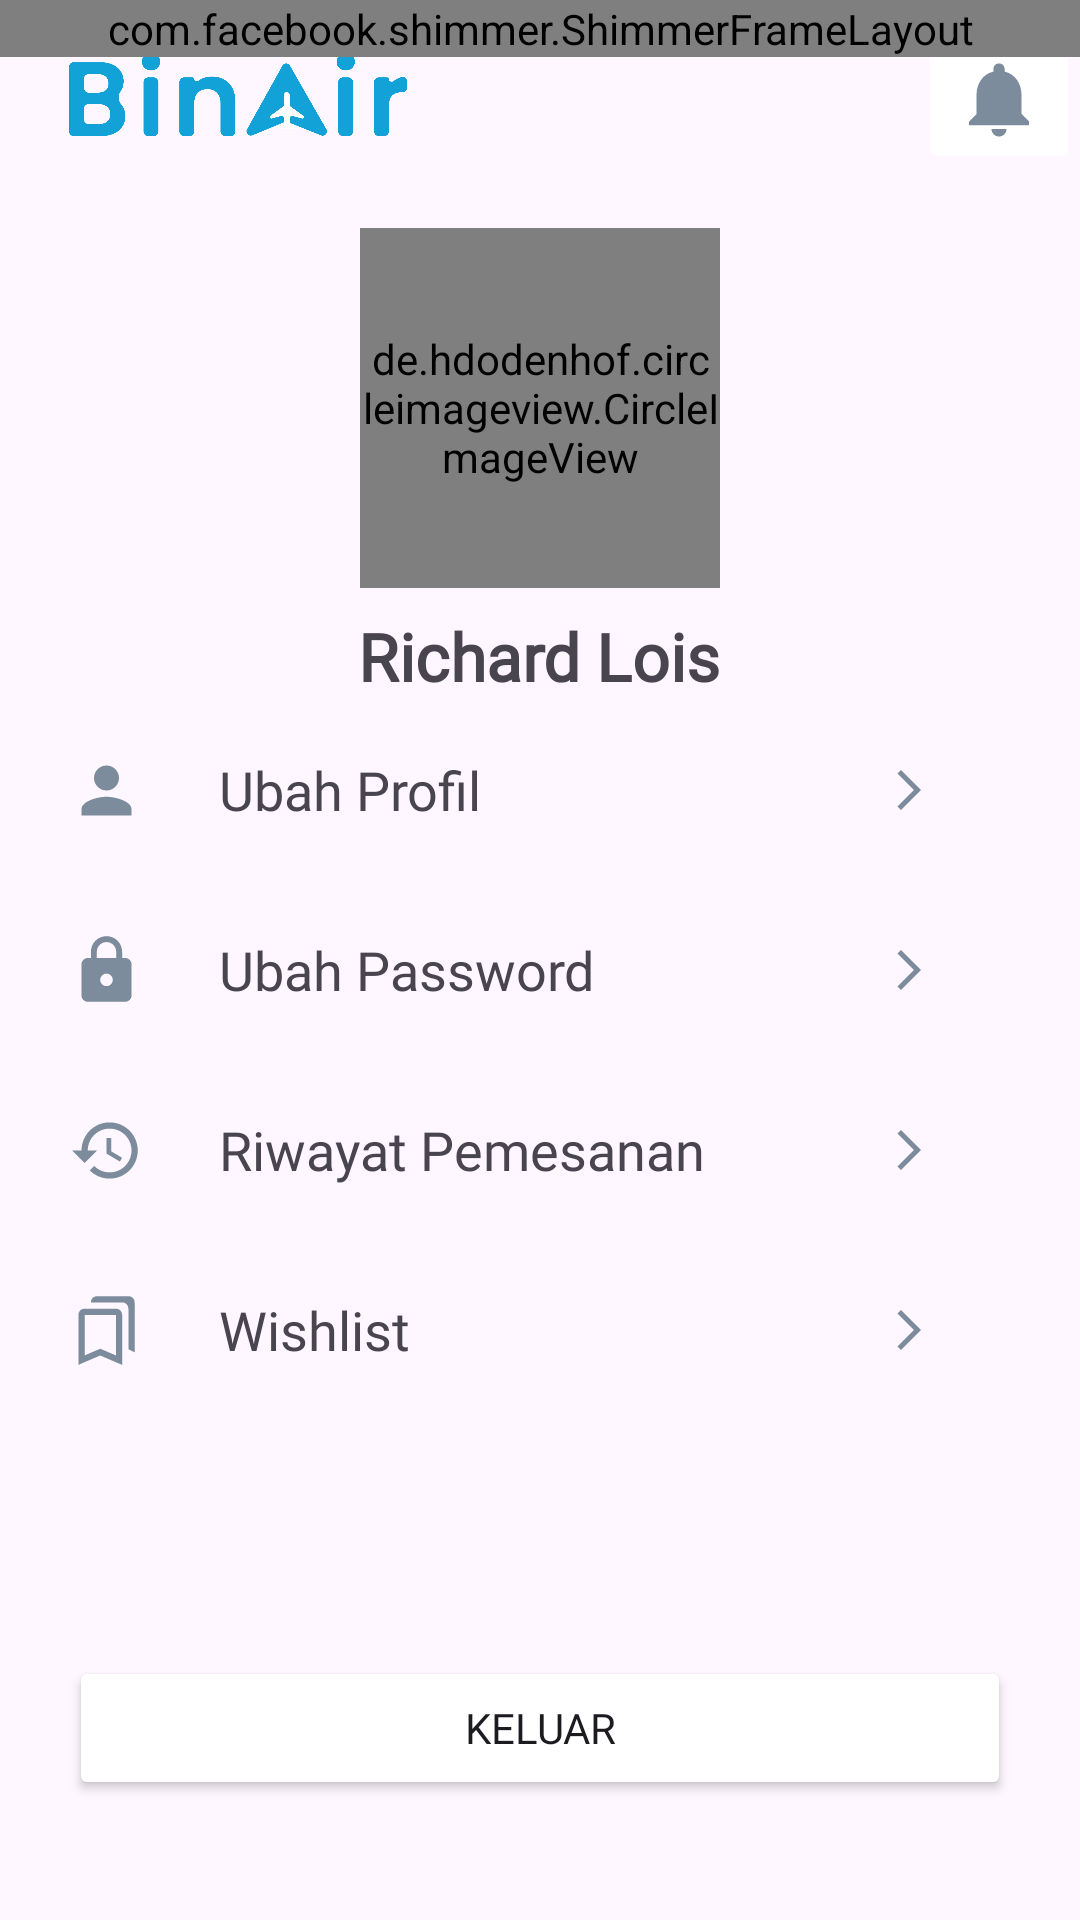

Icons on this 1080w x 1920h Android screen, each with the point to tap as (x,y):
history: (105,1150)
lock: (106,969)
profile: (106,790)
right arrow: (909,790), (909,970), (909,1150), (909,1330)
